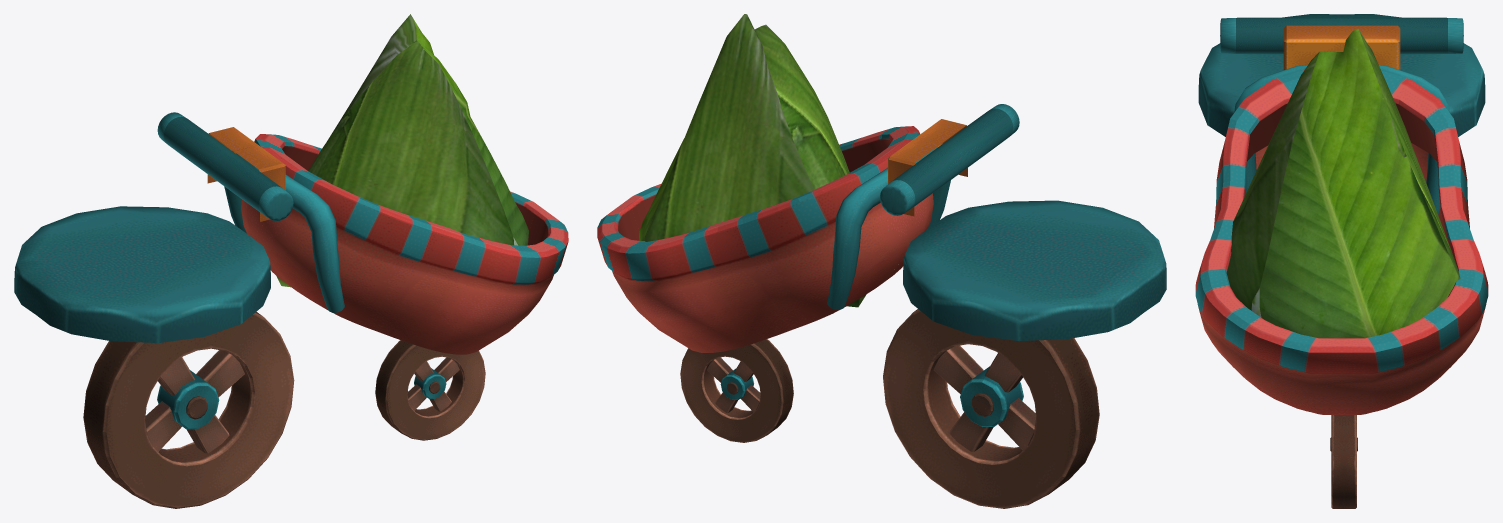
File: 小推车.fbx
The picture shows the model from 3 angles, left to right: view 1: azimuth 30°, elevation 25°; view 2: azimuth 150°, elevation 25°; view 3: azimuth 270°, elevation 25°; orthographic projection. The views are drawn at different scales.
Visible parts, largest first — view 1: Object002, Group001; view 2: Object002, Group001; view 3: Object002, Group001.
Part boxes in pixels (left/top/right/bottom): Object002: left=14, top=112, right=568, bottom=508; Group001: left=276, top=14, right=528, bottom=287; Object002: left=597, top=104, right=1166, bottom=508; Group001: left=639, top=14, right=866, bottom=307; Object002: left=1195, top=14, right=1488, bottom=508; Group001: left=1226, top=29, right=1460, bottom=338.
Bounding box in the file's own units: 236 × 185 × 105.
